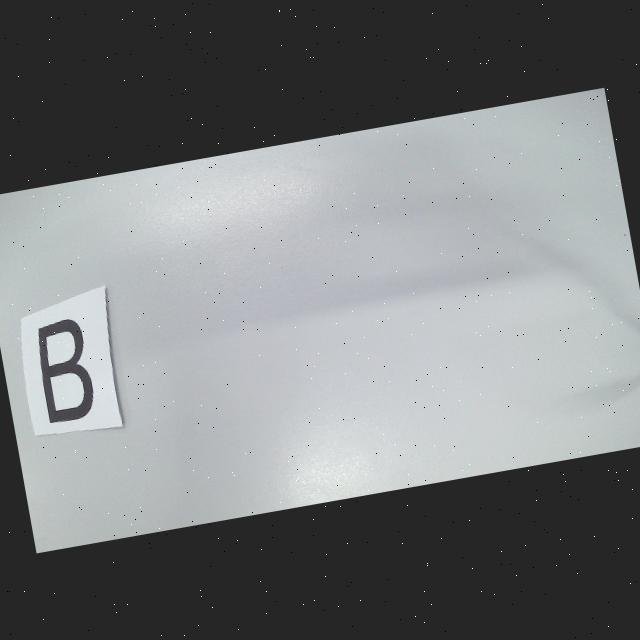FAKE: (32, 316, 98, 424)
